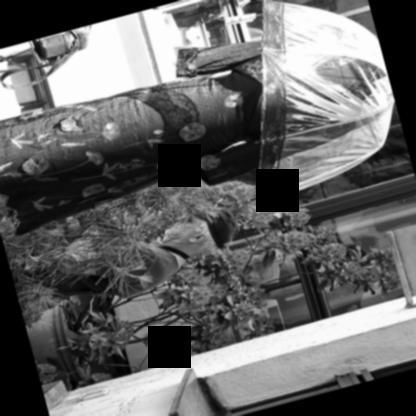handbag: (0, 24, 91, 89)
